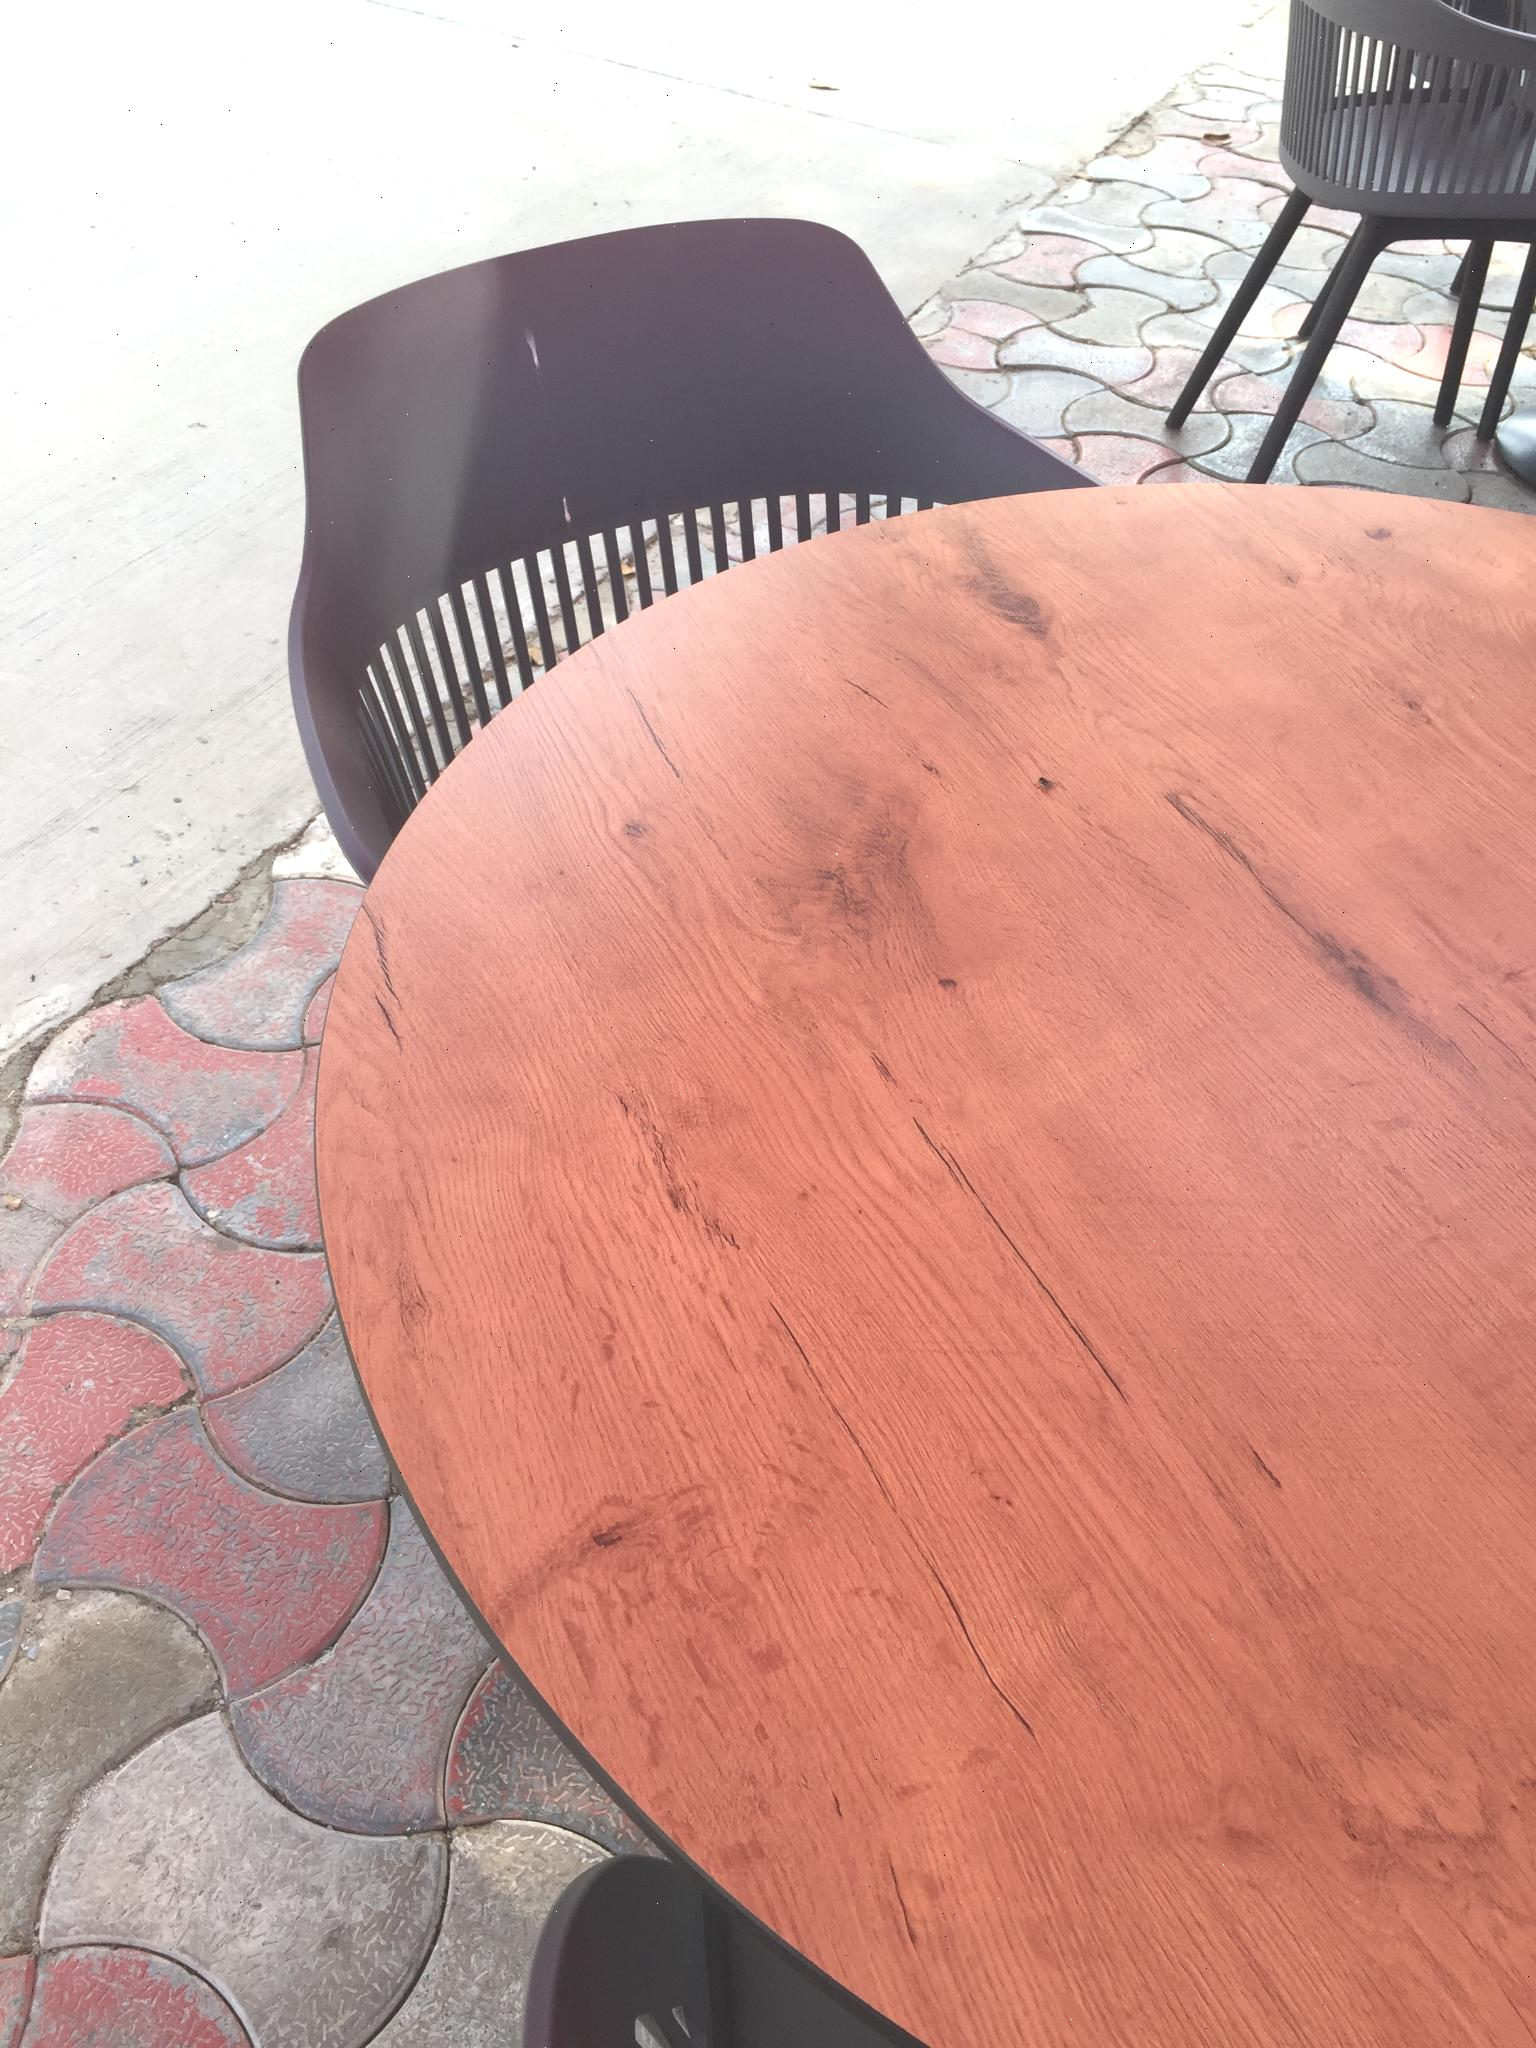chair: (287, 213, 1104, 887), (1163, 0, 1534, 484)
